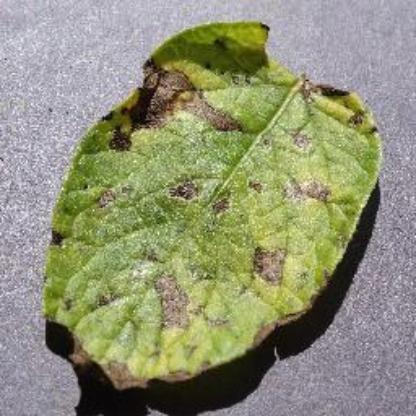Early-Blight: (39, 16, 393, 400)
